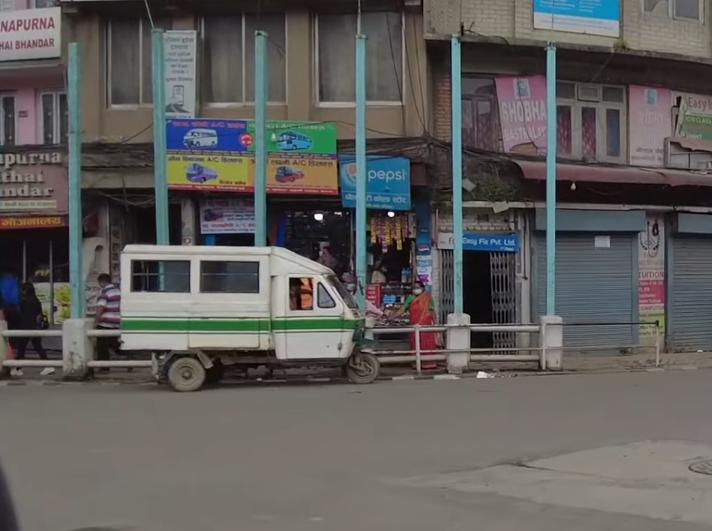tempo: (115, 236, 395, 405)
